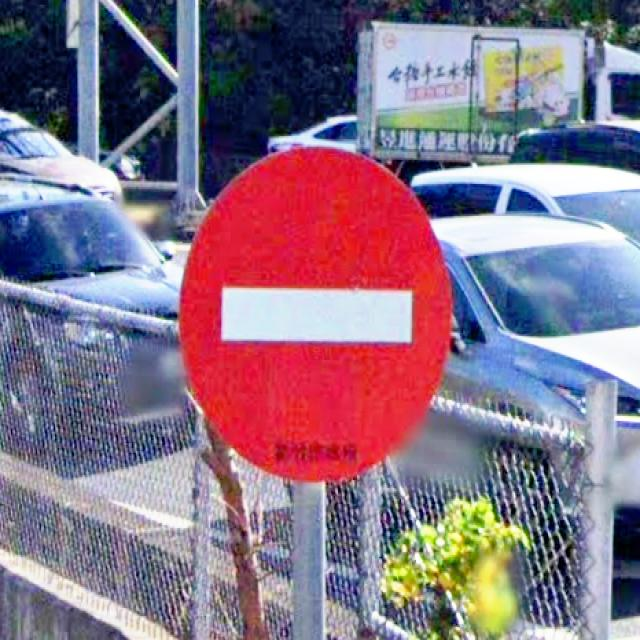noentry: (176, 141, 456, 485)
